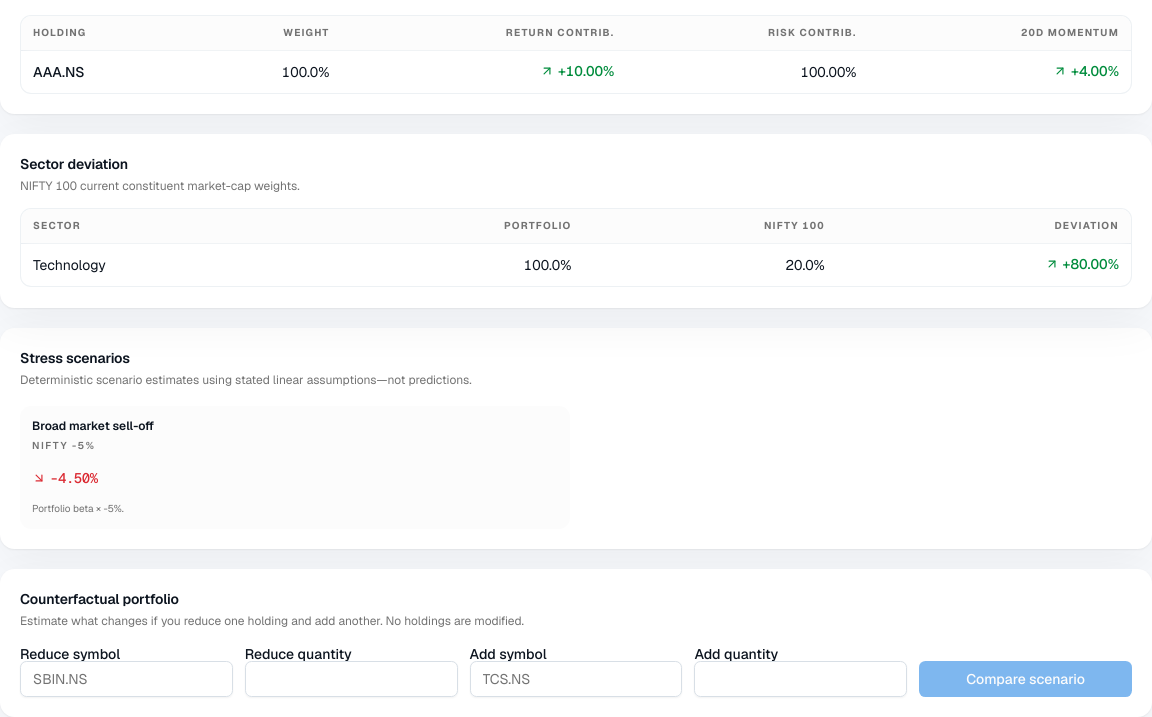
Test case: PortfolioRiskView › submits a non-mutating before/after counterfactual
The image size is (1152, 717).
(page scrolled)
Type "aaa.ns" into the field labelled "Reduce symbol" at (126, 679), box x1=20 y1=661 x2=233 y2=697
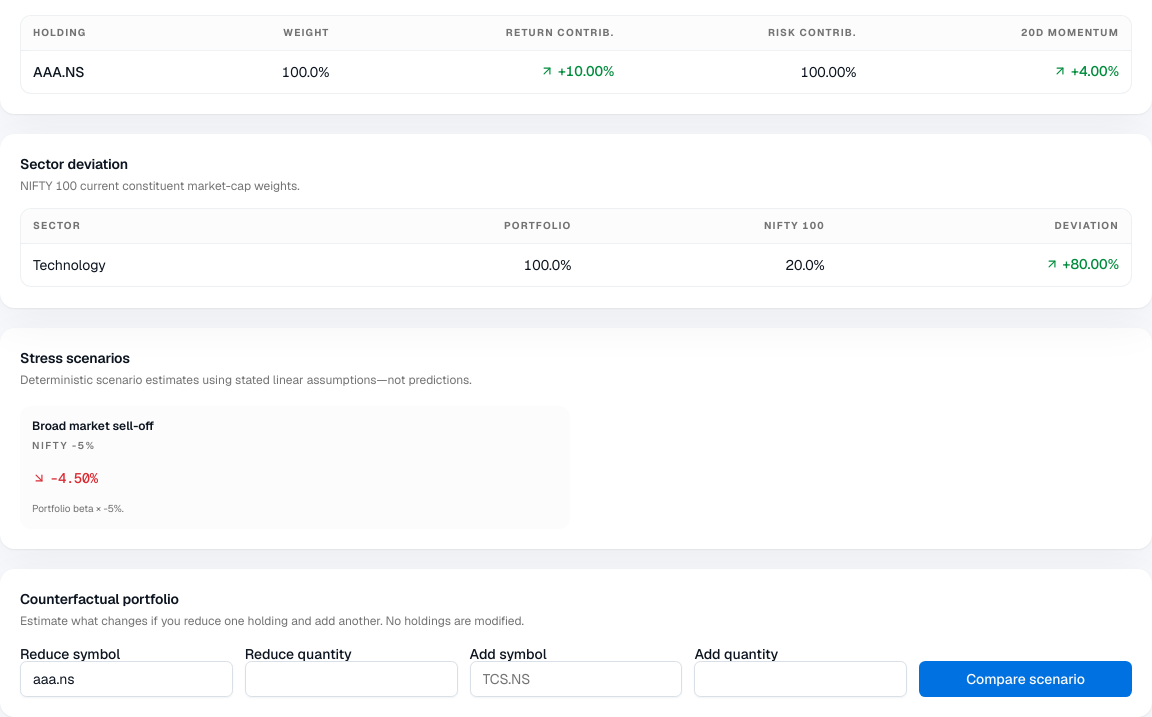
Type "2" into the number field labelled "Reduce quantity" at (351, 679), box x1=245 y1=661 x2=458 y2=697
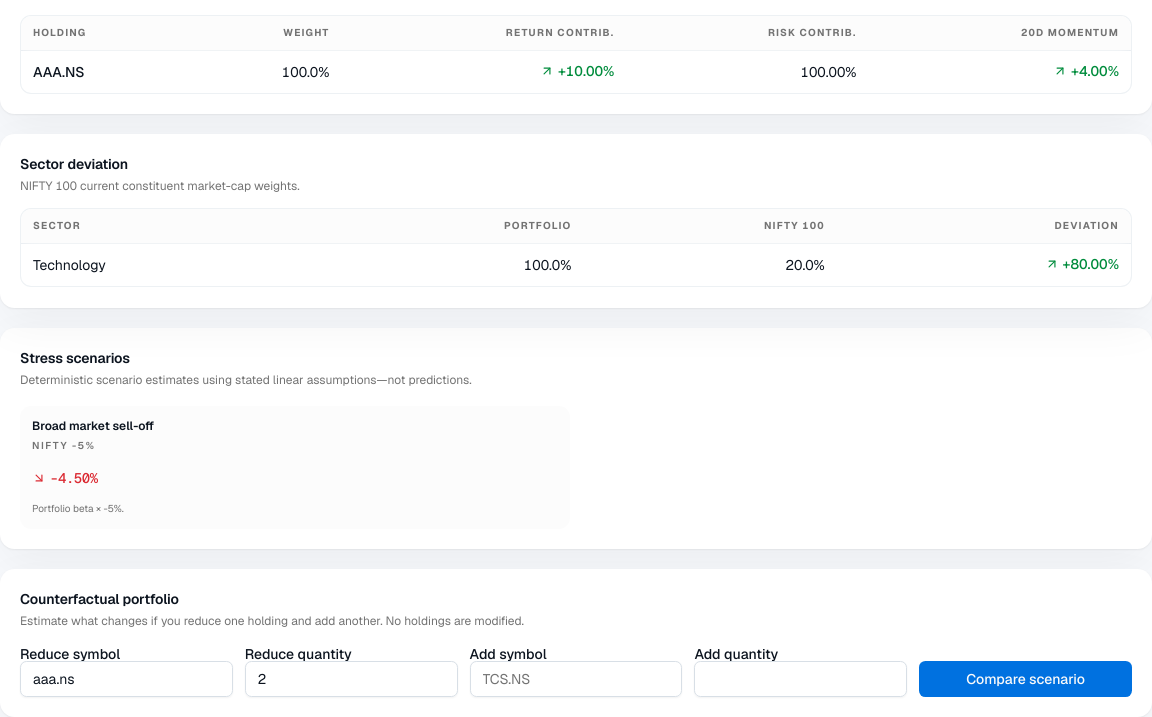
Type "bbb.ns" into the field labelled "Add symbol" at (576, 679), box x1=470 y1=661 x2=682 y2=697
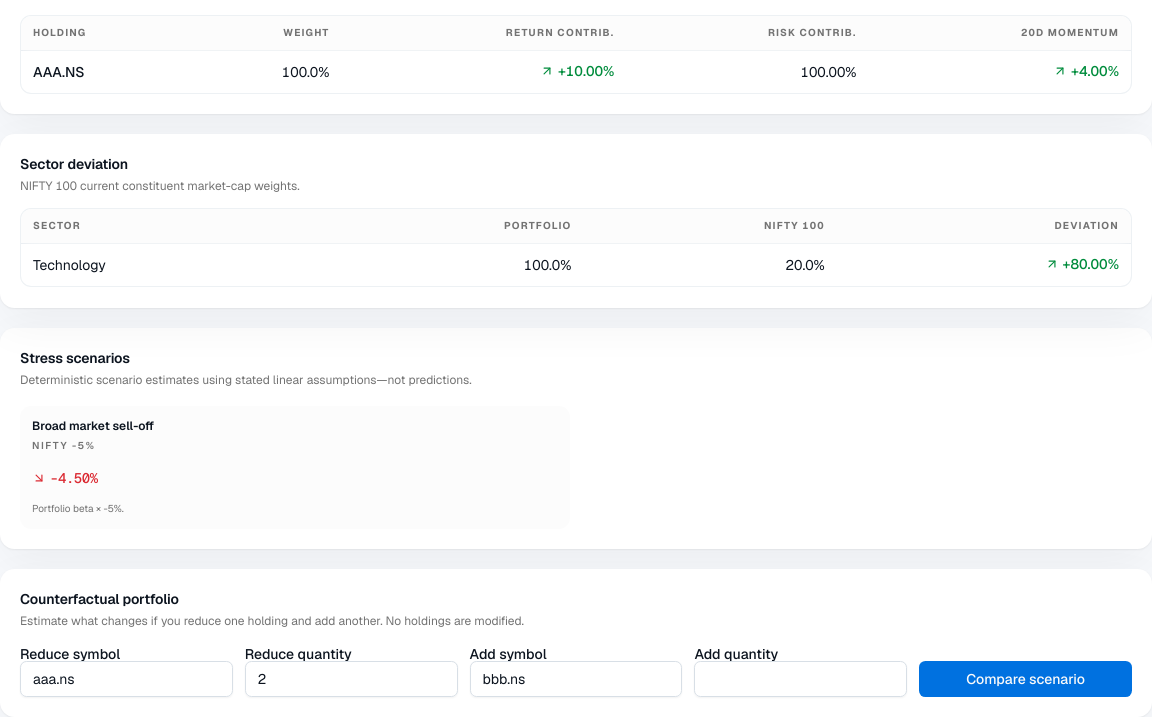
Type "1" into the number field labelled "Add quantity" at (801, 679), box x1=694 y1=661 x2=907 y2=697
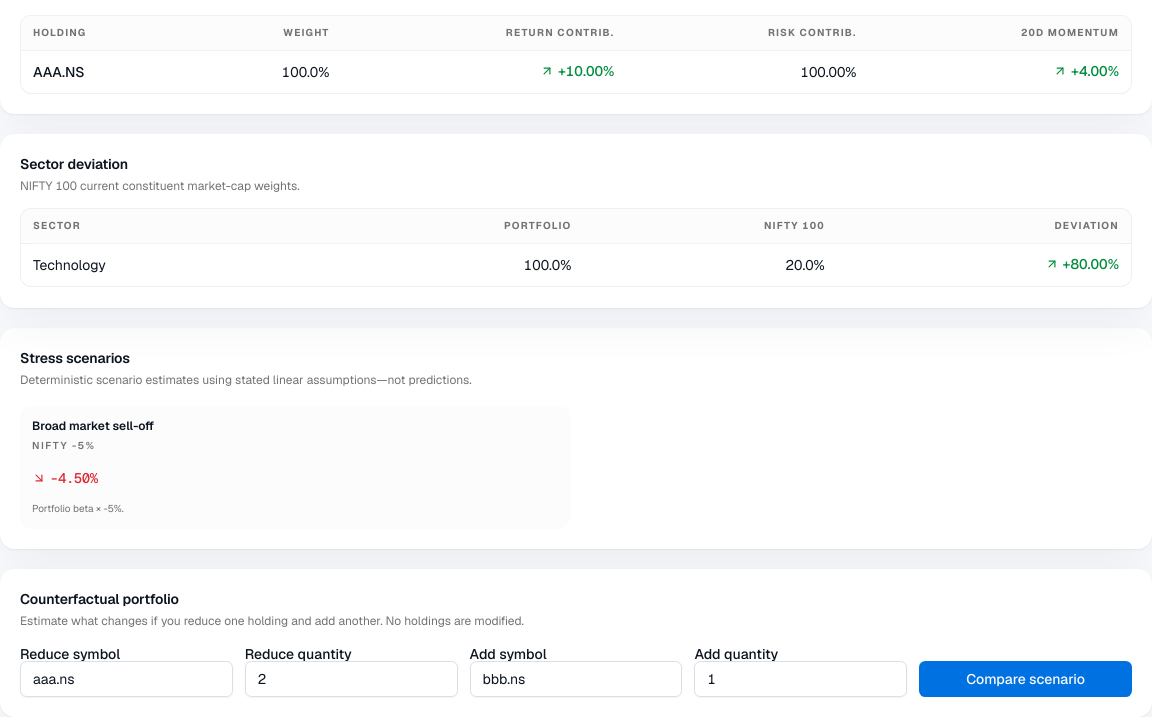
Click the button "Compare scenario" at (1026, 679), box x1=919 y1=661 x2=1132 y2=697
(page scrolled)
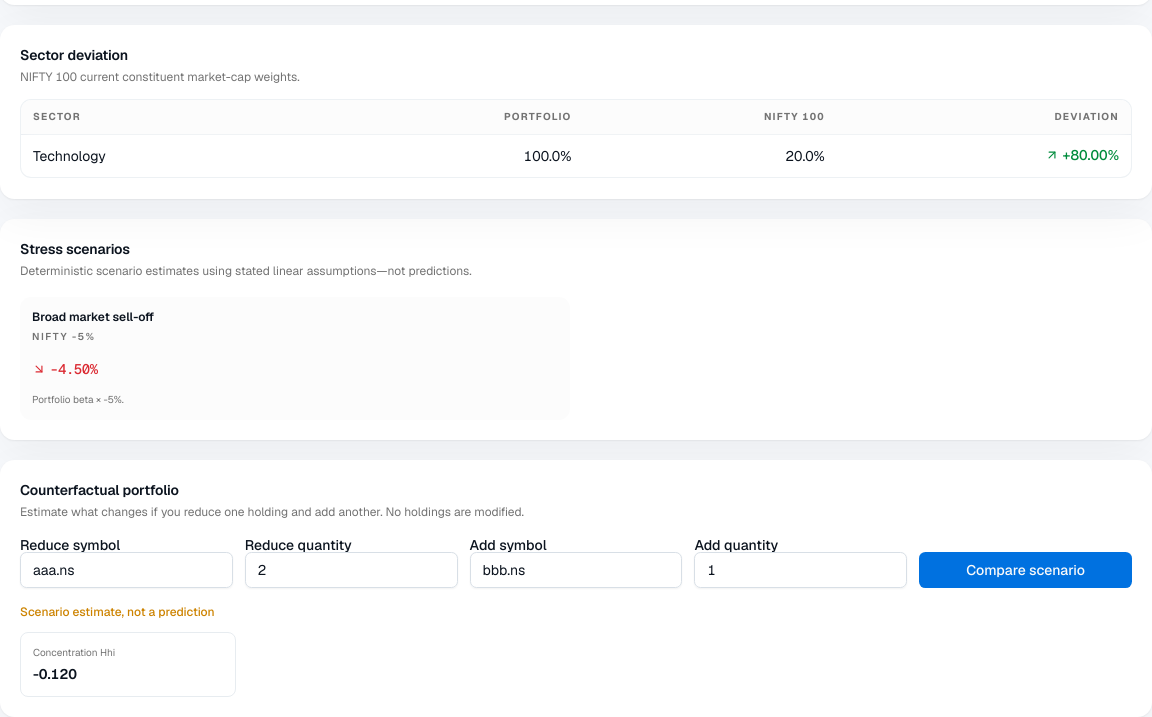
Expected: the text "Scenario estimate, not a prediction" is shown, x1=20 y1=604 x2=215 y2=620
Expected: the text "-0.120" is shown, x1=33 y1=665 x2=77 y2=683
